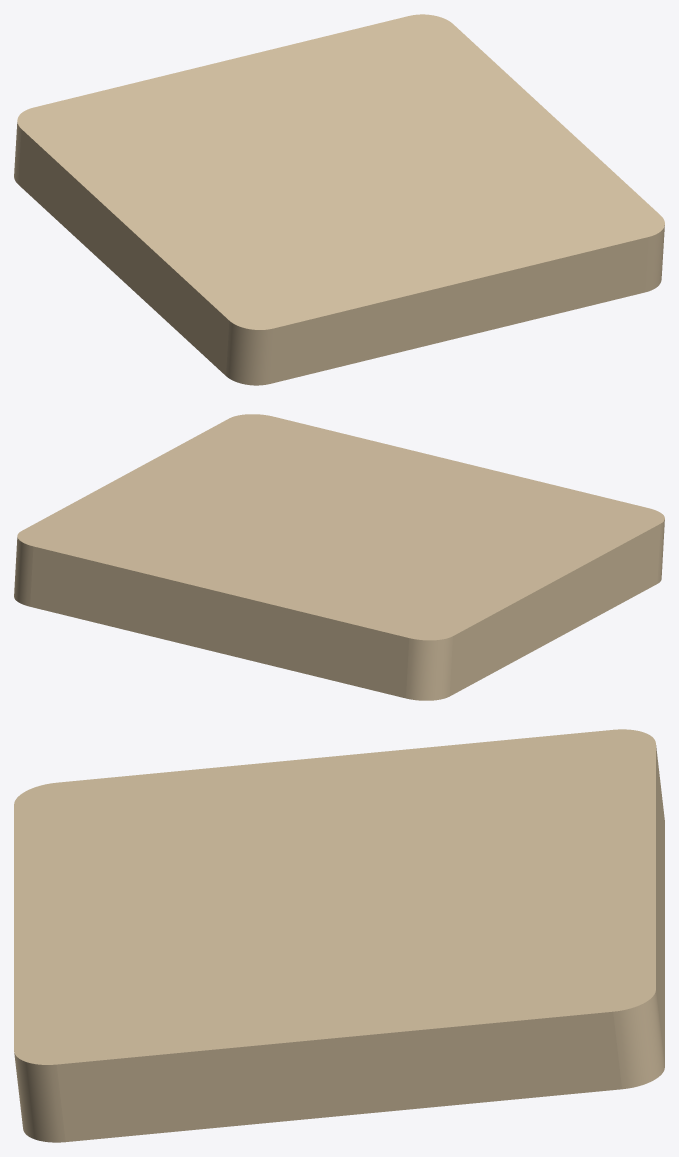
The model's file is original-21.obj.
The picture shows the model from 3 angles, top to bottom: view 1: azimuth 30°, elevation 25°; view 2: azimuth 150°, elevation 25°; view 3: azimuth 270°, elevation 25°; orthographic projection. The views are drawn at different scales.
Parts seen in each view (by area): view 1: Group22/mesh58/mesh58-geometry#mesh58-geometry; view 2: Group22/mesh58/mesh58-geometry#mesh58-geometry; view 3: Group22/mesh58/mesh58-geometry#mesh58-geometry.
Part boxes in pixels (left/top/right/bottom): Group22/mesh58/mesh58-geometry#mesh58-geometry: left=14, top=14, right=664, bottom=385; Group22/mesh58/mesh58-geometry#mesh58-geometry: left=14, top=414, right=664, bottom=700; Group22/mesh58/mesh58-geometry#mesh58-geometry: left=14, top=729, right=664, bottom=1142.
Bounding box in the file's own units: 0.0689 × 0.0158 × 0.0673.
